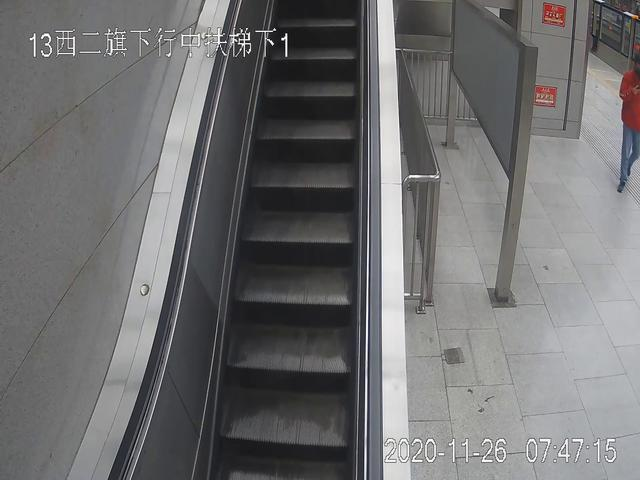person: (617, 52, 640, 192)
